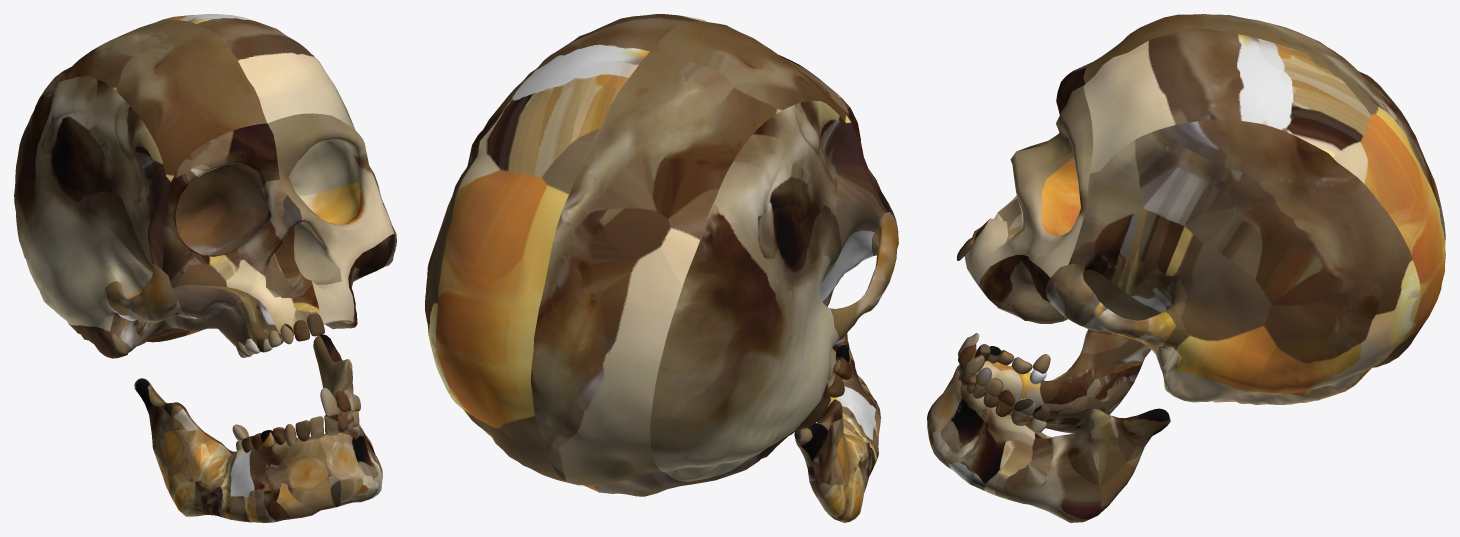
File: skull.obj
3 renders of one model, left to right at view 1: azimuth 30°, elevation 25°; view 2: azimuth 150°, elevation 25°; view 3: azimuth 270°, elevation 25°, orthographic. The views are drawn at different scales.
Parts seen in each view (by area): view 1: Object_3, Object_2; view 2: Object_3, Object_2; view 3: Object_3, Object_2.
Part boxes in pixels (left/top/right/bottom): Object_3: left=14, top=14, right=396, bottom=358; Object_2: left=134, top=334, right=382, bottom=522; Object_3: left=425, top=14, right=898, bottom=496; Object_2: left=794, top=333, right=880, bottom=522; Object_3: left=957, top=14, right=1445, bottom=404; Object_2: left=927, top=329, right=1170, bottom=522.
Size of the model in its own units: 0.1695 by 0.2466 by 0.2583.
